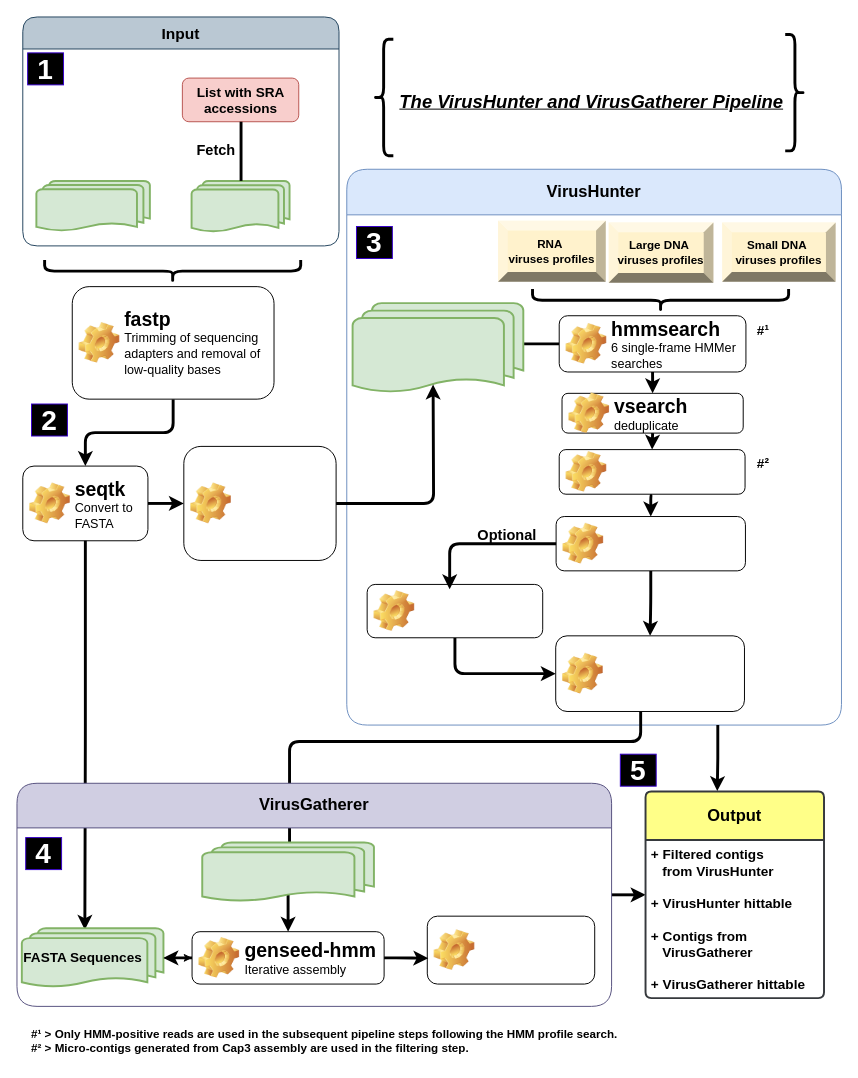
This 858x1078 diagram has some shape labels left out. Here are the shapes that lost their labels. From the top down, the centre of each, then its label:
At (92,205): "local FASTQ".
At (240,206): "FASTQ".
At (437,348): "Protein Translation of FASTA Sequences (Six Frames)".
At (651,471): "Cap3 Generate micro-contigs".
At (259,502): "transeq Translate sequences into proteins for all six reading frames".
At (650,543): "blastn filter against custom contaminant DB".
At (454,610): "blastx Filter against non-viral refseq protein".
At (649,673): "tblastx check against viral genome (taxonomy annotation)".
At (287,871): "Filtered Contigs from Hunter".
At (510,949): "blastx check against viral genome (taxonomy annotation)".
